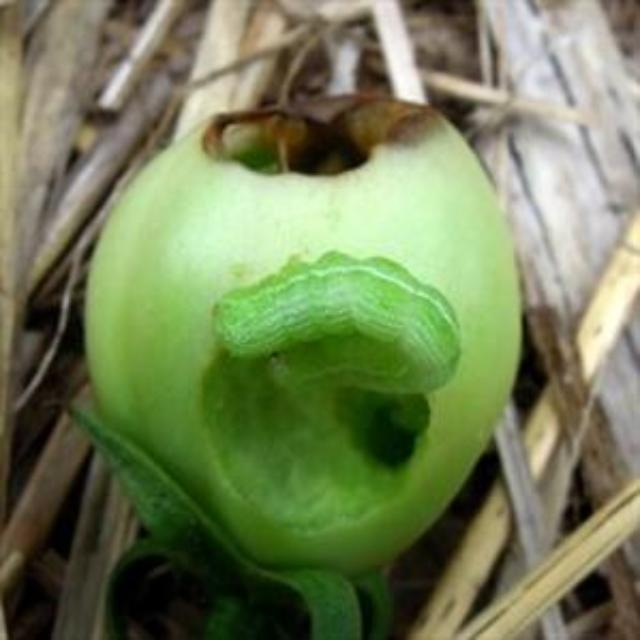Cotton bollworm: (186, 228, 472, 472)
